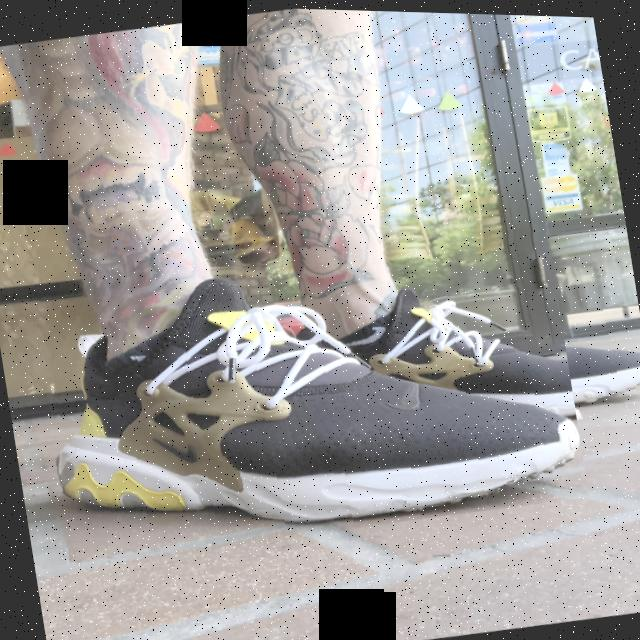shoe: (3, 207, 590, 580), (289, 238, 640, 463)
